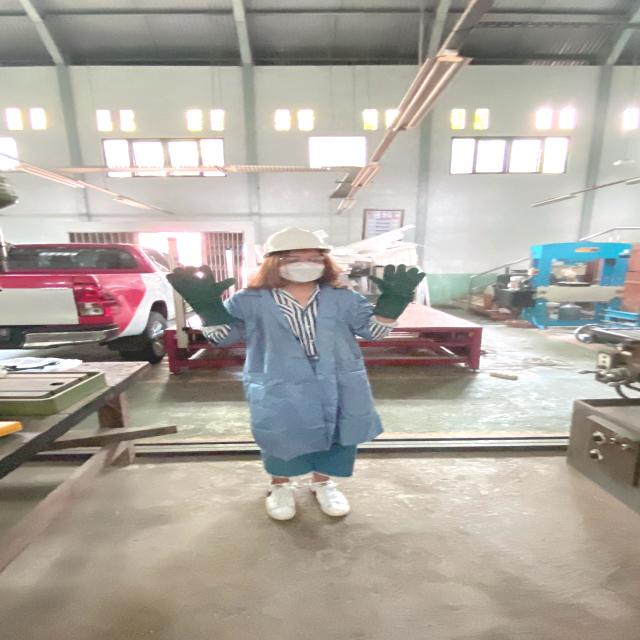face_mask: (274, 253, 328, 282)
glasses: (276, 254, 328, 267)
hand_glove: (164, 262, 241, 304), (363, 262, 432, 300)
head_helmet: (258, 224, 332, 255)
person: (163, 225, 430, 525)
shoes: (258, 474, 308, 523), (302, 474, 357, 518)
